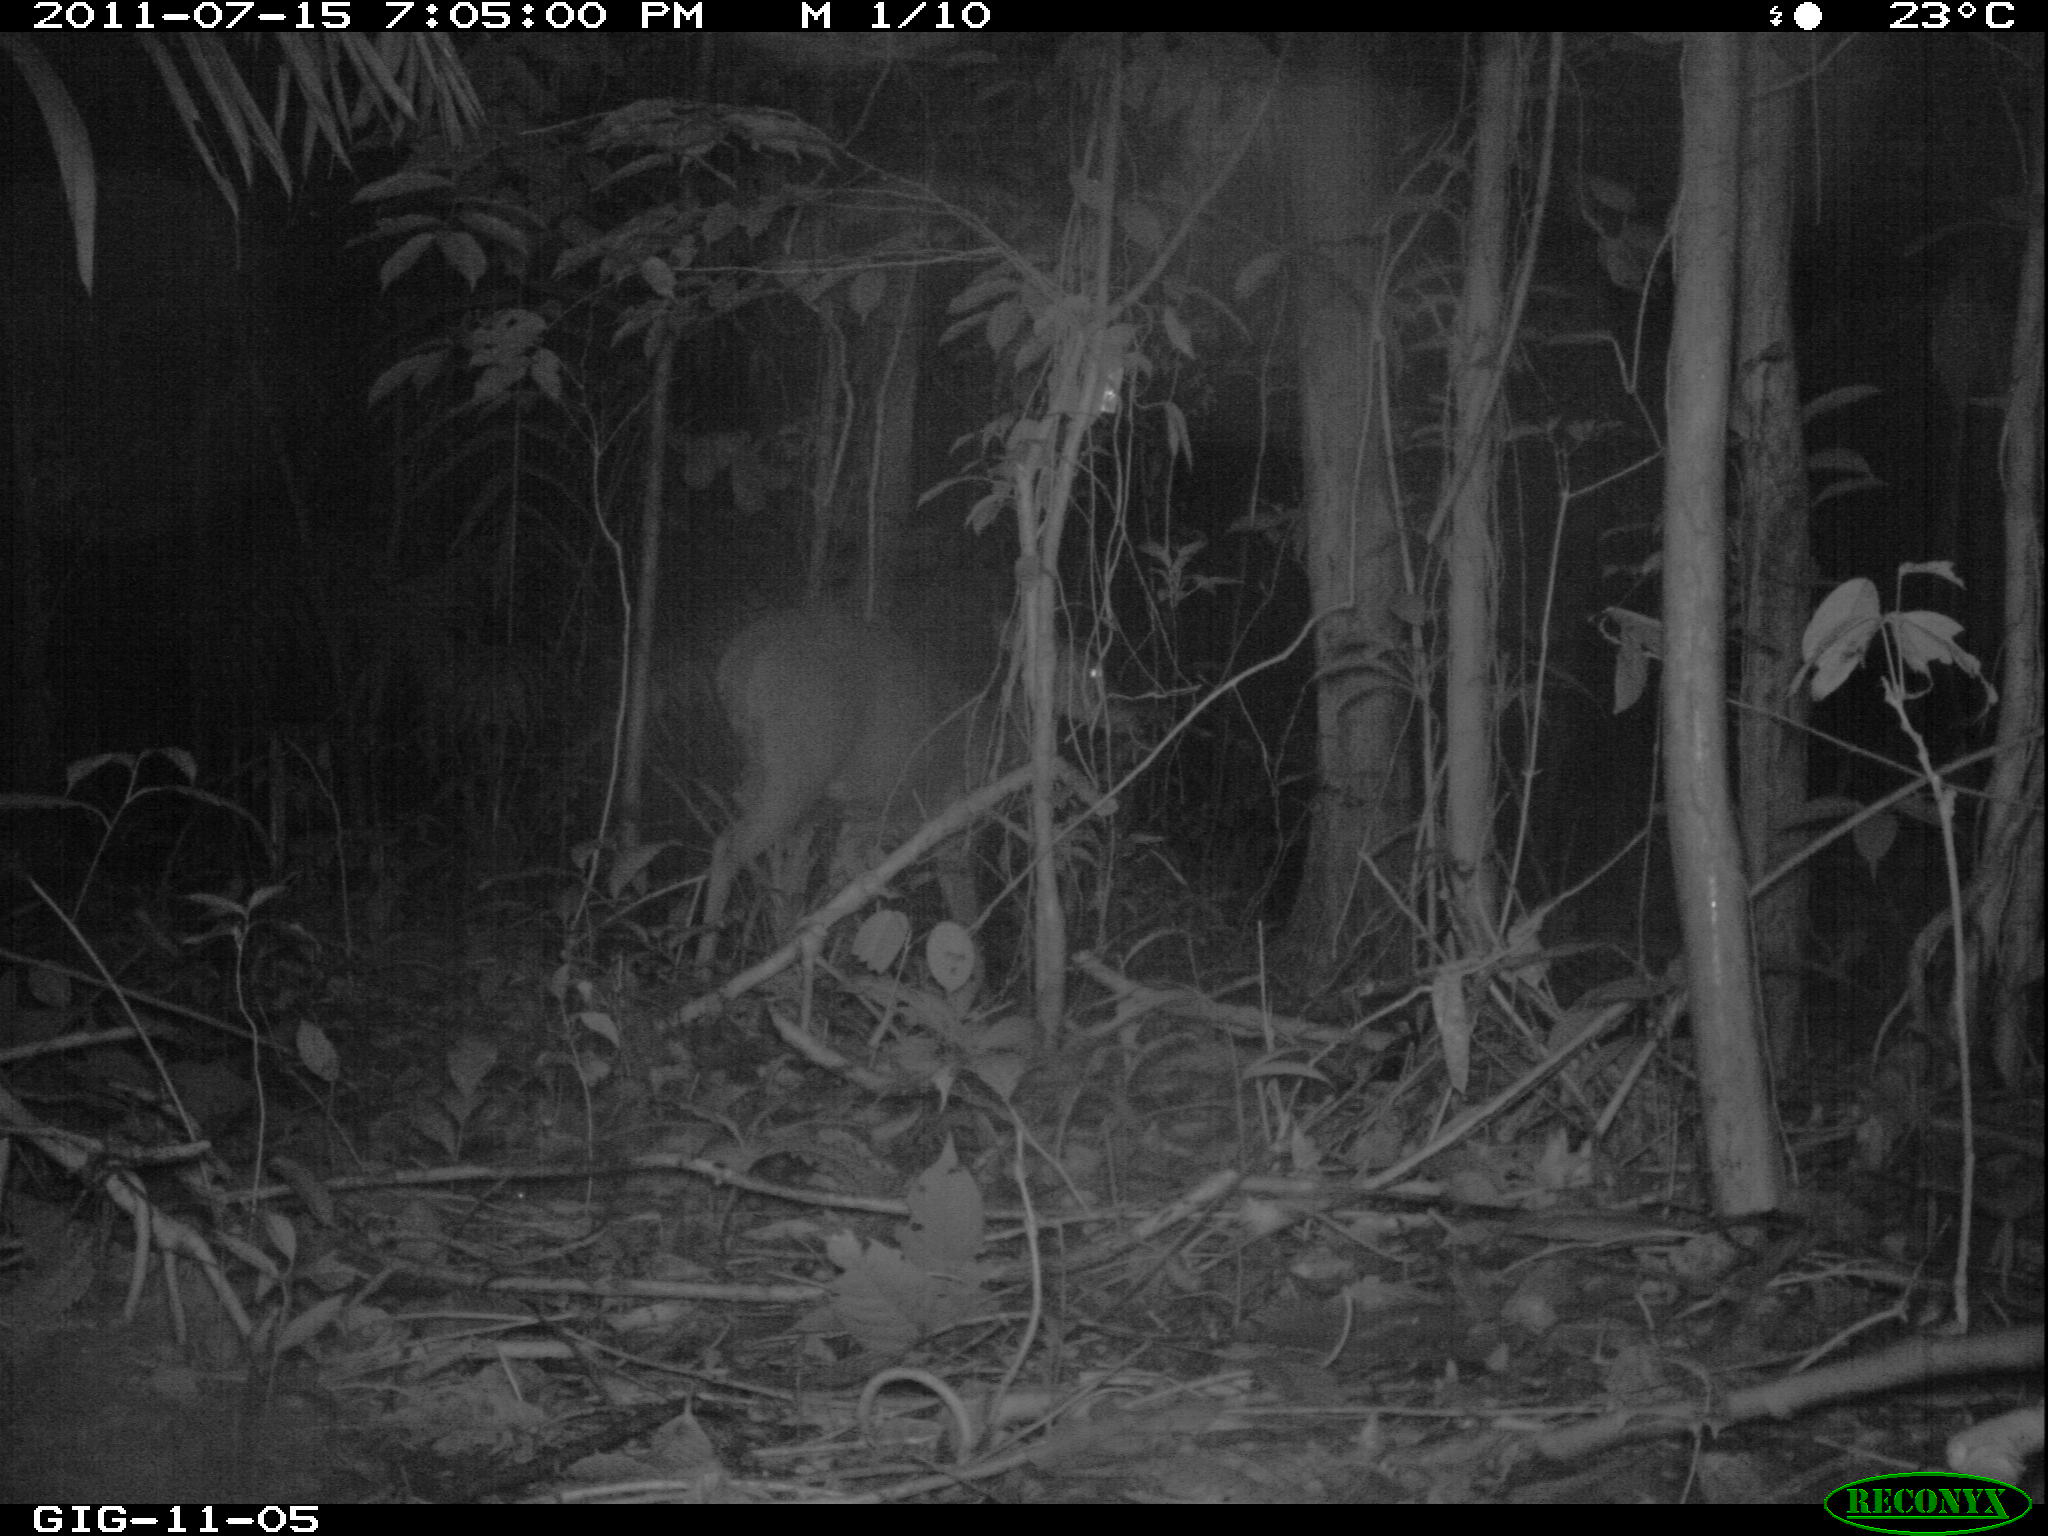Deer: (668, 616, 1155, 1020)
